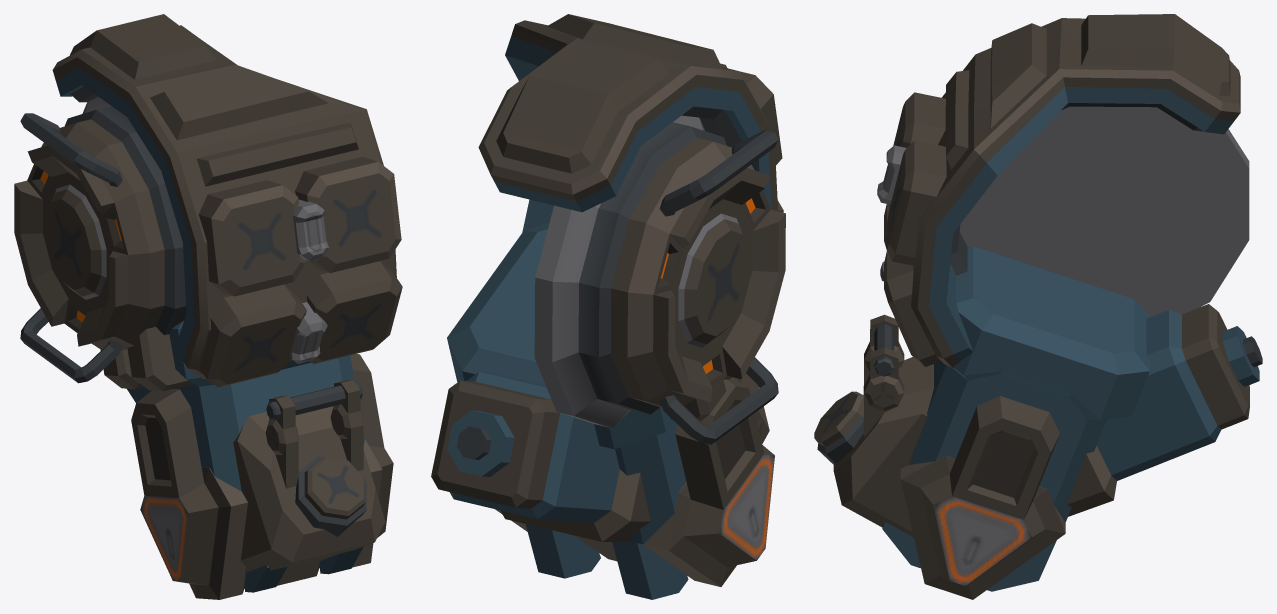
File: SM_Mech_Leg_01_Armor_Thigh_03.fbx
The picture shows the model from 3 angles, left to right: view 1: azimuth 30°, elevation 25°; view 2: azimuth 150°, elevation 25°; view 3: azimuth 270°, elevation 25°; orthographic projection. The views are drawn at different scales.
Visible parts, largest first — view 1: SM_Mech_Leg_01_Armor_Thigh_03; view 2: SM_Mech_Leg_01_Armor_Thigh_03; view 3: SM_Mech_Leg_01_Armor_Thigh_03.
Part boxes in pixels (x1,y1,x2,y2): SM_Mech_Leg_01_Armor_Thigh_03: (14, 14, 402, 599); SM_Mech_Leg_01_Armor_Thigh_03: (431, 14, 785, 599); SM_Mech_Leg_01_Armor_Thigh_03: (814, 14, 1262, 599).
Bounding box in the file's own units: 66.96 × 122 × 95.98.
